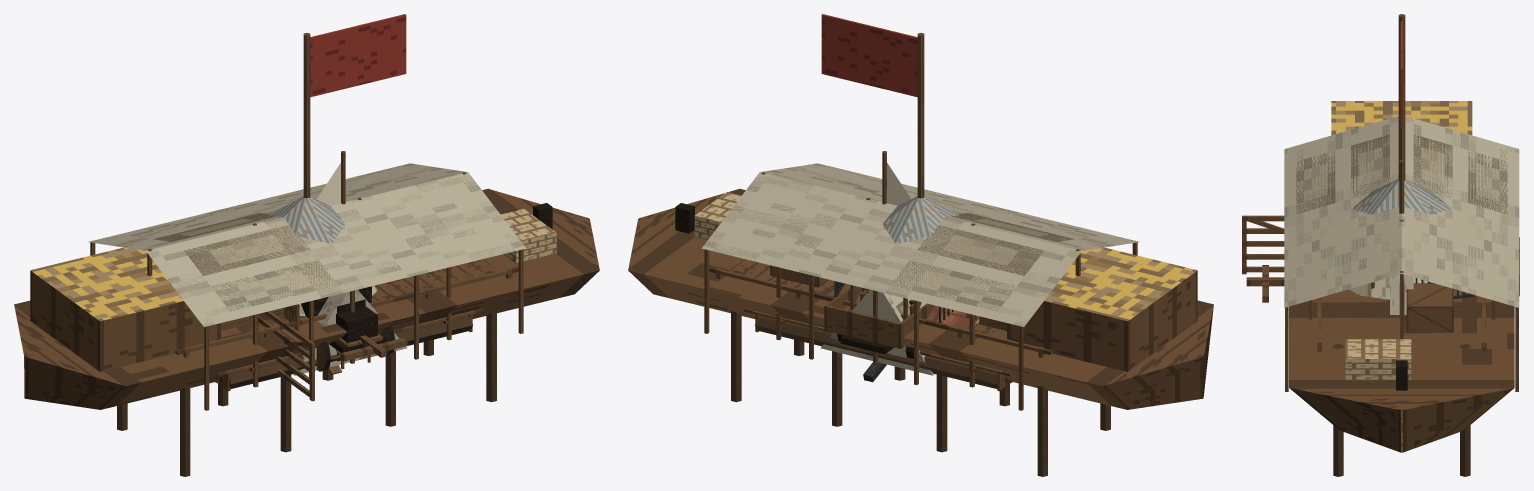
File: props.glb
3 views of the same model, side by side, from view 1: azimuth 30°, elevation 25°; view 2: azimuth 150°, elevation 25°; view 3: azimuth 270°, elevation 25° (orthographic).
Visible parts, largest first — view 1: river-barge, mess-tent, flagpole, landing-stage, lorry, kiosk, river-raft, farm-gate, horse-boat, ridge-tent, jangada, ox-cart (+2 smaller); view 2: river-barge, mess-tent, flagpole, landing-stage, lorry, river-raft, kiosk, ridge-tent, horse-boat, field-kitchen, jangada, canoa-de-tolda; view 3: mess-tent, river-barge, kiosk, farm-gate, landing-stage, flagpole, iron-gate, bell-tent, ox-cart, horse-boat, canoa-de-tolda, jangada.
Boxes of the visible parts, <box> form: river-barge: <box>14,188,599,409</box>; mess-tent: <box>88,163,526,410</box>; flagpole: <box>303,14,406,198</box>; landing-stage: <box>117,259,497,476</box>; lorry: <box>301,286,394,371</box>; kiosk: <box>269,196,345,244</box>; river-raft: <box>218,315,472,388</box>; farm-gate: <box>258,311,314,401</box>; horse-boat: <box>175,267,518,357</box>; ridge-tent: <box>293,289,407,375</box>; jangada: <box>317,151,345,205</box>; ox-cart: <box>340,335,408,361</box>; river-barge: <box>628,188,1213,409</box>; mess-tent: <box>701,163,1139,410</box>; flagpole: <box>821,14,924,198</box>; landing-stage: <box>728,259,1110,476</box>; lorry: <box>824,286,934,359</box>; river-raft: <box>755,315,1009,388</box>; kiosk: <box>882,196,958,244</box>; ridge-tent: <box>820,289,934,375</box>; horse-boat: <box>709,267,1052,357</box>; field-kitchen: <box>776,267,979,387</box>; jangada: <box>882,151,910,205</box>; canoa-de-tolda: <box>675,203,1006,330</box>; mess-tent: <box>1284,116,1519,391</box>; river-barge: <box>1289,101,1514,452</box>; kiosk: <box>1352,179,1451,214</box>; farm-gate: <box>1242,215,1284,274</box>; landing-stage: <box>1332,290,1472,476</box>; flagpole: <box>1398,14,1405,180</box>; iron-gate: <box>1390,274,1474,314</box>; bell-tent: <box>1349,277,1427,299</box>; ox-cart: <box>1246,265,1284,302</box>; horse-boat: <box>1317,297,1486,351</box>; canoa-de-tolda: <box>1396,360,1407,432</box>; jangada: <box>1399,160,1404,213</box>.
Bounding box in the file's own units: 14 × 9 × 5.91.
1 material, 1 textured.
